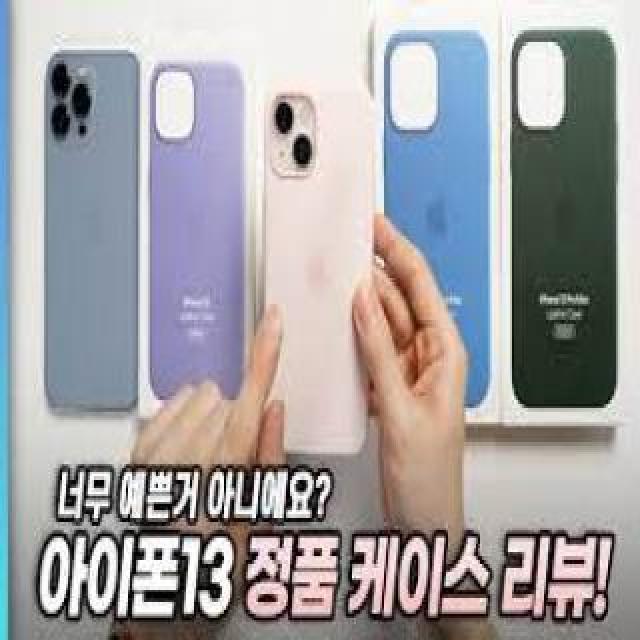smart phone: (252, 77, 393, 503), (28, 30, 147, 413)
